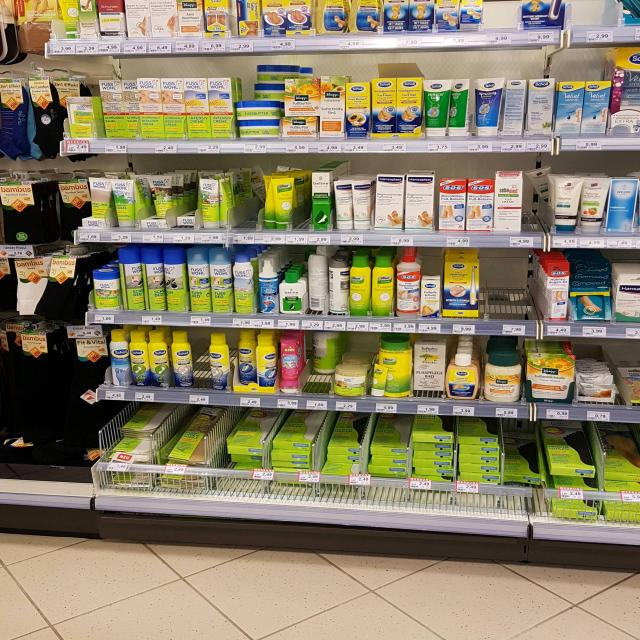unorganised: (119, 244, 189, 314), (201, 175, 230, 232), (501, 76, 527, 137), (308, 332, 337, 382), (306, 254, 328, 315), (328, 257, 349, 315), (146, 176, 173, 220), (449, 79, 468, 138), (260, 176, 276, 230), (526, 169, 550, 190)
